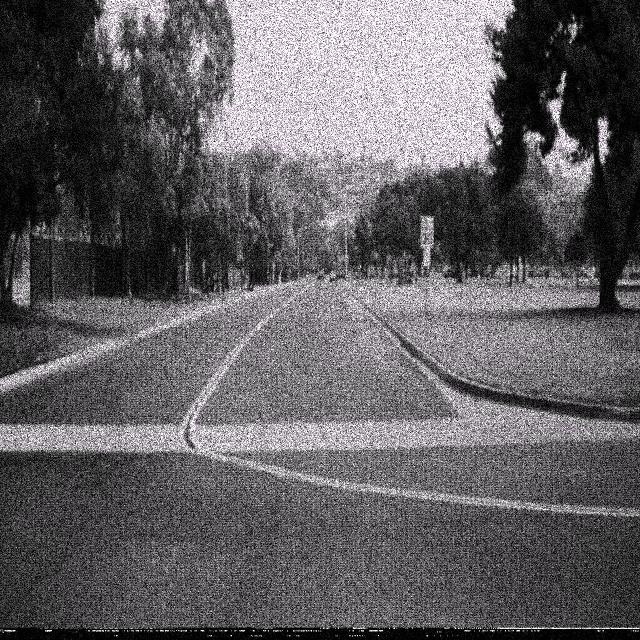speedLimit30: (420, 215, 434, 248)
